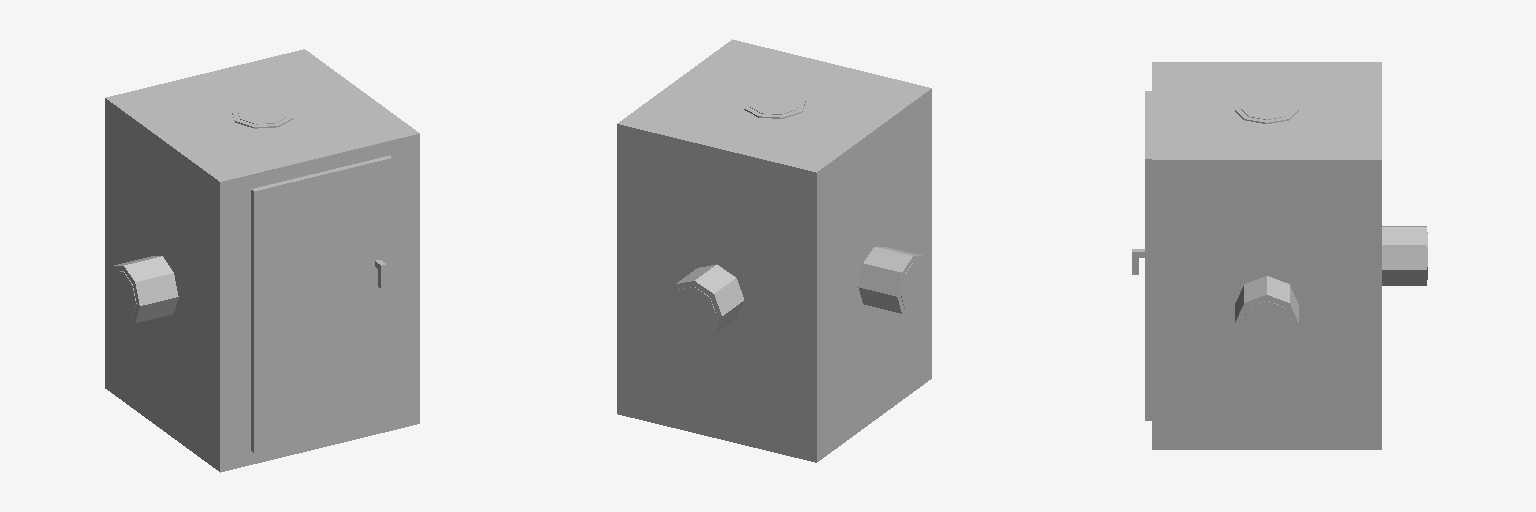
The model's file is transformer.obj.
3 renders of one model, left to right at view 1: azimuth 30°, elevation 25°; view 2: azimuth 150°, elevation 25°; view 3: azimuth 270°, elevation 25°, orthographic.
Visible parts, largest first — view 1: Cube_Cube.002, Cylinder_Cylinder.002; view 2: Cube_Cube.002, Cylinder_Cylinder.002; view 3: Cube_Cube.002, Cylinder_Cylinder.002.
Part boxes in pixels (bbox=[...]): Cube_Cube.002: bbox=[105, 49, 419, 472]; Cylinder_Cylinder.002: bbox=[108, 101, 293, 323]; Cube_Cube.002: bbox=[617, 39, 931, 462]; Cylinder_Cylinder.002: bbox=[667, 91, 928, 338]; Cube_Cube.002: bbox=[1145, 62, 1381, 449]; Cylinder_Cylinder.002: bbox=[1235, 96, 1427, 352].
Bounding box in the file's own units: 1 × 1.01 × 0.922.